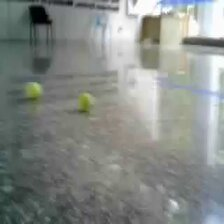tennis: (25, 80, 42, 99), (77, 92, 92, 111)
